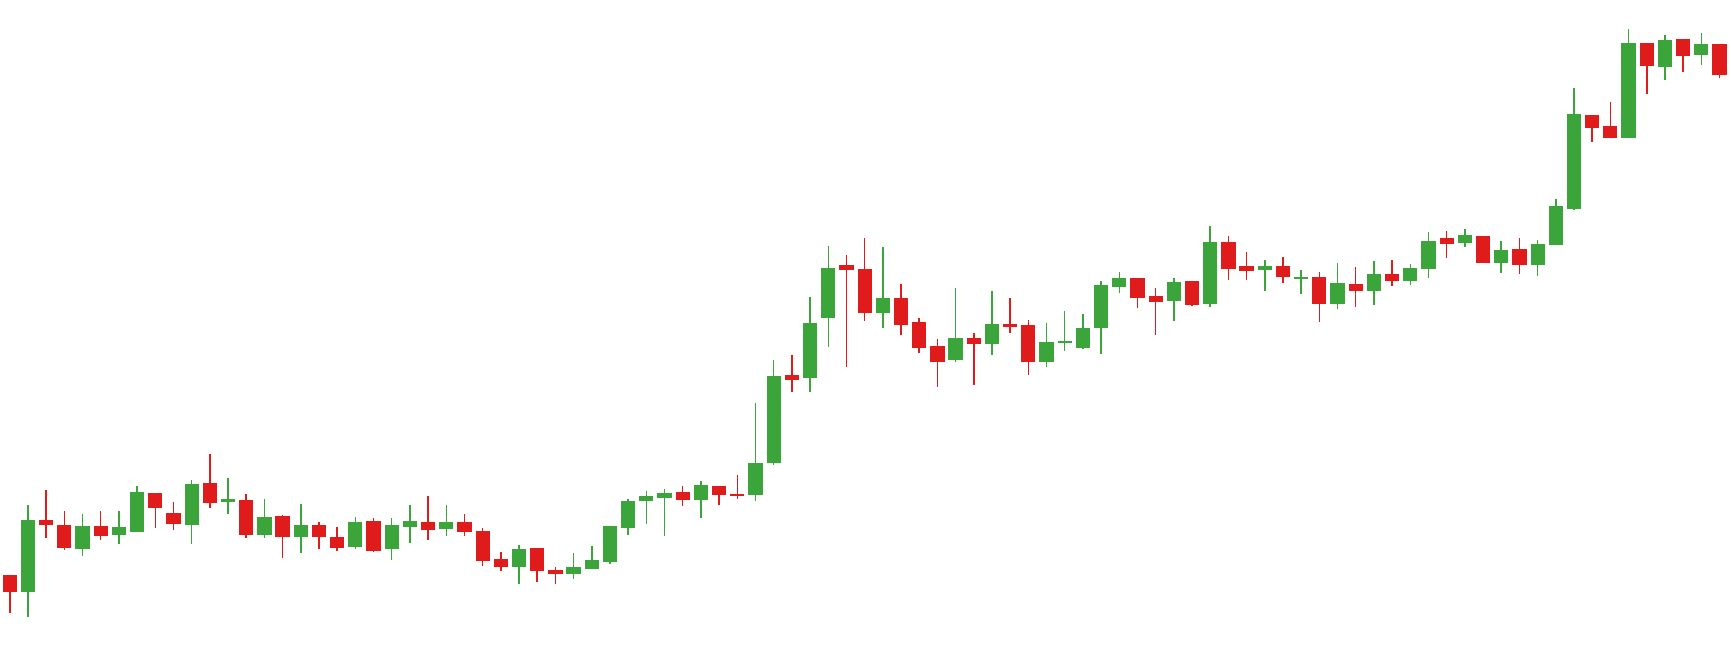buy: (839, 276, 964, 393)
